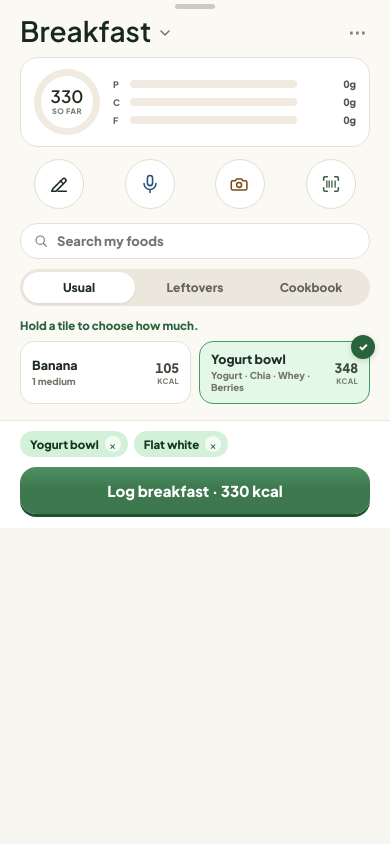
the cart › a loose chip’s words open the row; a bracket’s do not
expect the element named "Shelves" is shown: met, box [20,269,370,306]
Click the button "Flat white".
click(171, 444)  # box [144,436,199,452]
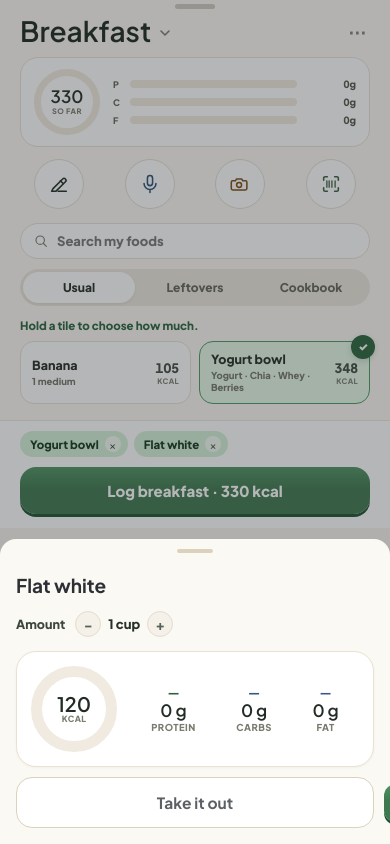
expect the dialog "Flat white" is shown: met, box [0,539,389,843]
